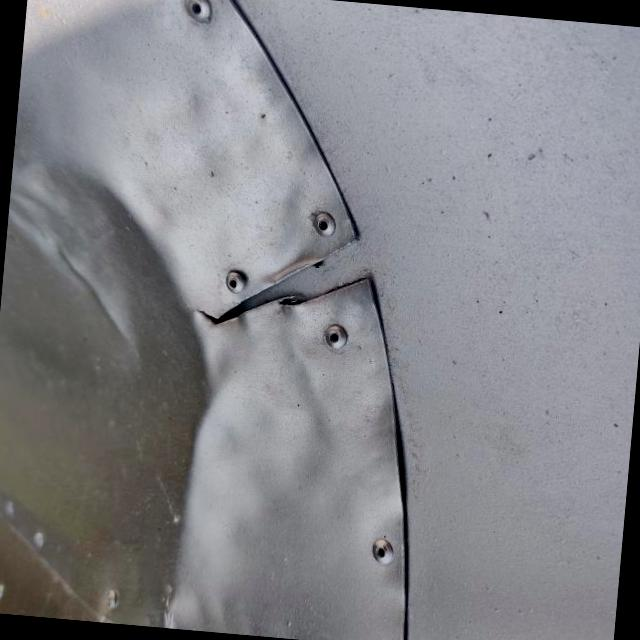crack: (178, 208, 388, 355)
dent: (0, 137, 263, 632)
